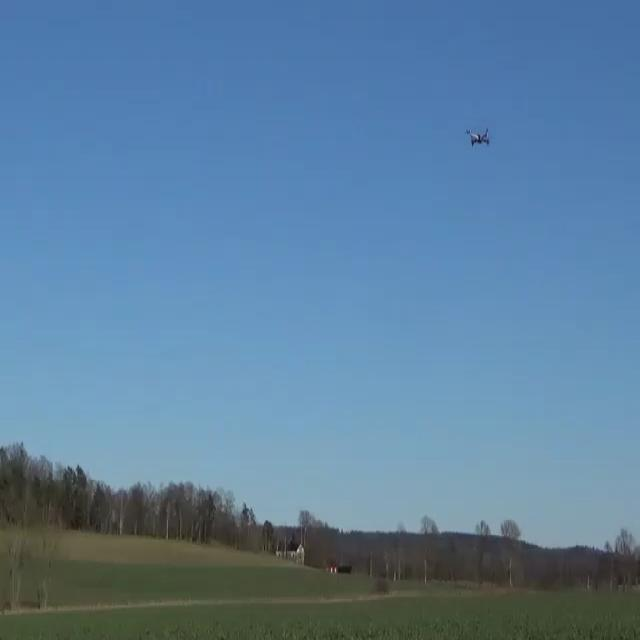Drone: (459, 120, 502, 154)
